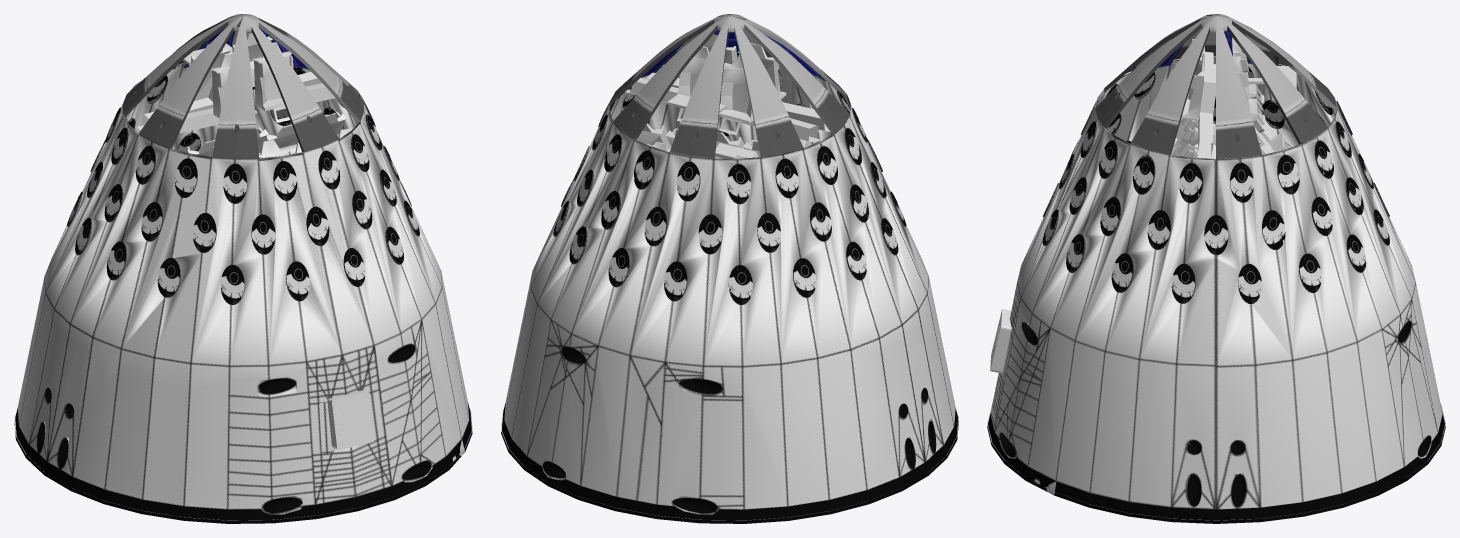
File: coloniallanderinterior4.fbx
3 views of the same model, side by side, from view 1: azimuth 30°, elevation 25°; view 2: azimuth 150°, elevation 25°; view 3: azimuth 270°, elevation 25° (orthographic).
Visible parts, largest first — view 1: CapsulInterior, Top, windows.001, seats, windows, seattruss, hatch, doorwindow; view 2: CapsulInterior, Top, windows.001, seats, windows, seattruss, Topwindows; view 3: CapsulInterior, Top, windows.001, seats, windows, seattruss, hatch.
Part boxes in pixels (x1,y1,x2,y2): CapsulInterior: (14, 64, 472, 523); Top: (122, 14, 364, 160); windows.001: (67, 67, 419, 304); seats: (110, 33, 351, 295); windows: (67, 66, 418, 304); seattruss: (137, 61, 391, 257); hatch: (327, 390, 374, 449); doorwindow: (341, 407, 365, 433); CapsulInterior: (501, 65, 958, 523); Top: (609, 14, 850, 159); windows.001: (553, 75, 906, 304); seats: (637, 34, 862, 299); windows: (554, 70, 905, 304); seattruss: (625, 66, 830, 196); Topwindows: (641, 30, 825, 80); CapsulInterior: (987, 57, 1445, 523); Top: (1095, 14, 1336, 160); windows.001: (1042, 68, 1389, 303); seats: (1151, 37, 1294, 302); windows: (1043, 66, 1389, 303); seattruss: (1197, 51, 1234, 195); hatch: (990, 309, 1011, 373).
Size of the model in its own units: 411 by 419 by 411.
